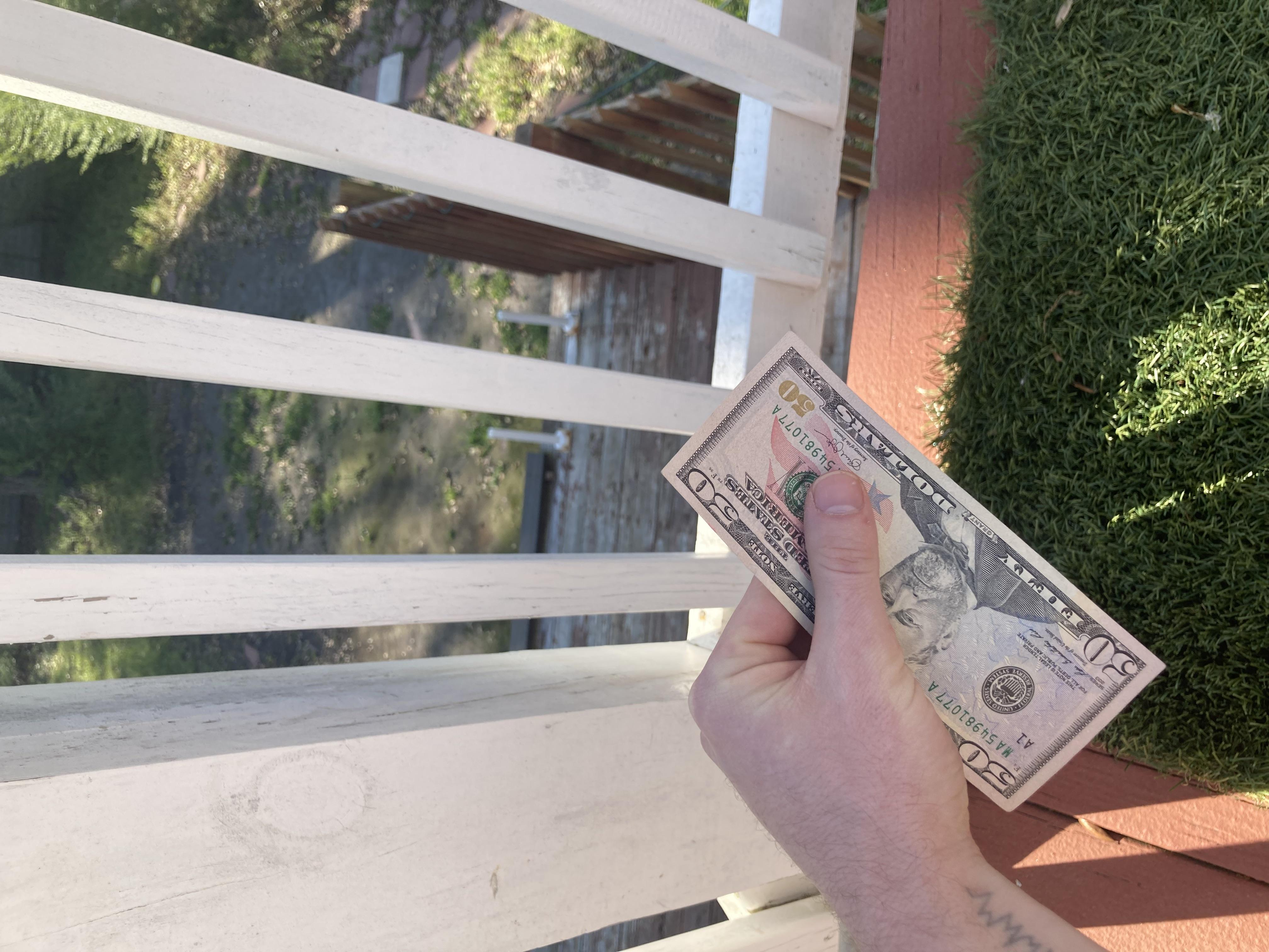fifty-front: (181, 495, 830, 876)
